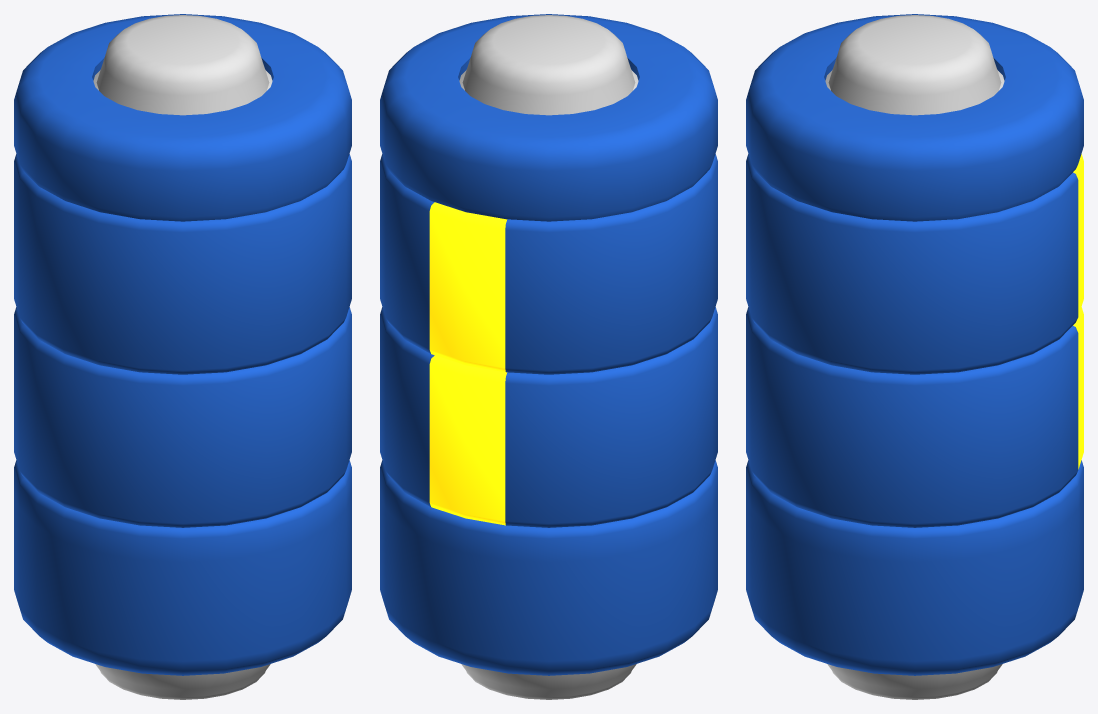
The model's file is Battery_v3.fbx.
3 renders of one model, left to right at view 1: azimuth 30°, elevation 25°; view 2: azimuth 150°, elevation 25°; view 3: azimuth 270°, elevation 25°, orthographic.
Parts seen in each view (by area): view 1: Batery_End_v3, Battery_Bottom_v3, Buttery_Body_v3.001, Buttery_Body_v3; view 2: Batery_End_v3, Battery_Bottom_v3, Buttery_Body_v3.001, Buttery_Body_v3; view 3: Batery_End_v3, Battery_Bottom_v3, Buttery_Body_v3.001, Buttery_Body_v3.
Part boxes in pixels (box(x1,y1,x2,y2)): Batery_End_v3: box(14, 14, 351, 221); Battery_Bottom_v3: box(14, 460, 351, 699); Buttery_Body_v3.001: box(14, 307, 351, 527); Buttery_Body_v3: box(14, 154, 351, 374); Batery_End_v3: box(380, 14, 717, 221); Battery_Bottom_v3: box(380, 460, 717, 699); Buttery_Body_v3.001: box(380, 307, 717, 527); Buttery_Body_v3: box(380, 154, 717, 374); Batery_End_v3: box(746, 14, 1083, 221); Battery_Bottom_v3: box(746, 460, 1083, 699); Buttery_Body_v3.001: box(746, 307, 1083, 527); Buttery_Body_v3: box(746, 154, 1083, 374).
Bounding box in the file's own units: 200 × 408 × 200.
